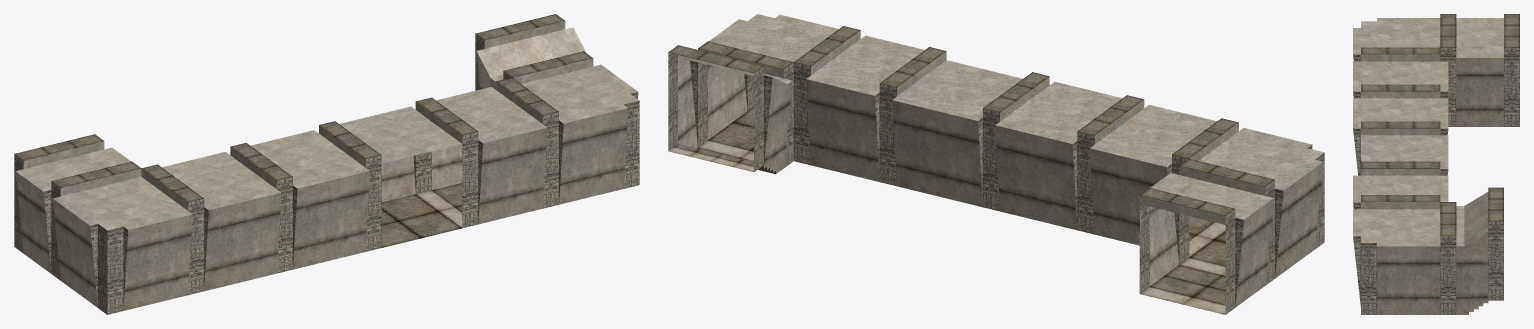
The model's file is thm_yavn_great_massassi_temple_r2_hall1_mesh_r2.fbx.
The picture shows the model from 3 angles, left to right: view 1: azimuth 30°, elevation 25°; view 2: azimuth 150°, elevation 25°; view 3: azimuth 270°, elevation 25°; orthographic projection. The views are drawn at different scales.
Visible parts, largest first — view 1: mesh_node; view 2: mesh_node; view 3: mesh_node.
Part boxes in pixels (left/top/right/bottom): mesh_node: left=14, top=14, right=639, bottom=314; mesh_node: left=668, top=14, right=1324, bottom=314; mesh_node: left=1353, top=14, right=1519, bottom=314.
Size of the model in its own units: 34 by 6.5 by 10.5.
